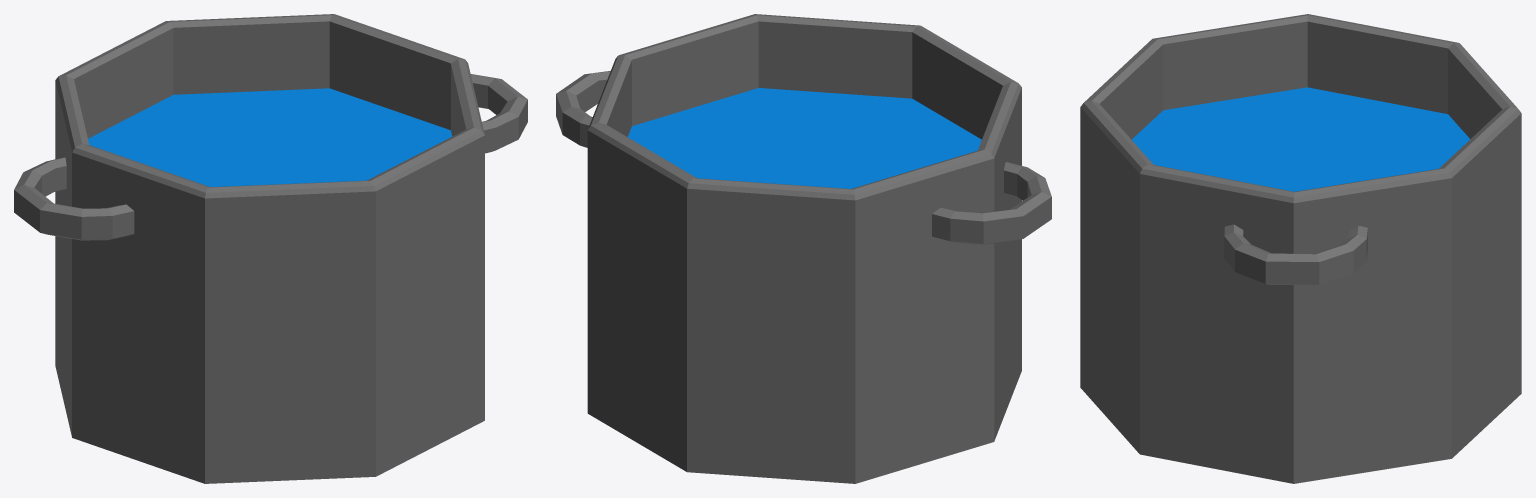
The model's file is SM_Pot_Filled.fbx.
3 views of the same model, side by side, from view 1: azimuth 30°, elevation 25°; view 2: azimuth 150°, elevation 25°; view 3: azimuth 270°, elevation 25° (orthographic).
Visible parts, largest first — view 1: pot; view 2: pot; view 3: pot.
Part boxes in pixels (bbox=[...]): pot: bbox=[14, 14, 527, 483]; pot: bbox=[556, 14, 1051, 483]; pot: bbox=[1080, 14, 1521, 483].
Bounding box in the file's own units: 89.91 × 52.18 × 72.73.
